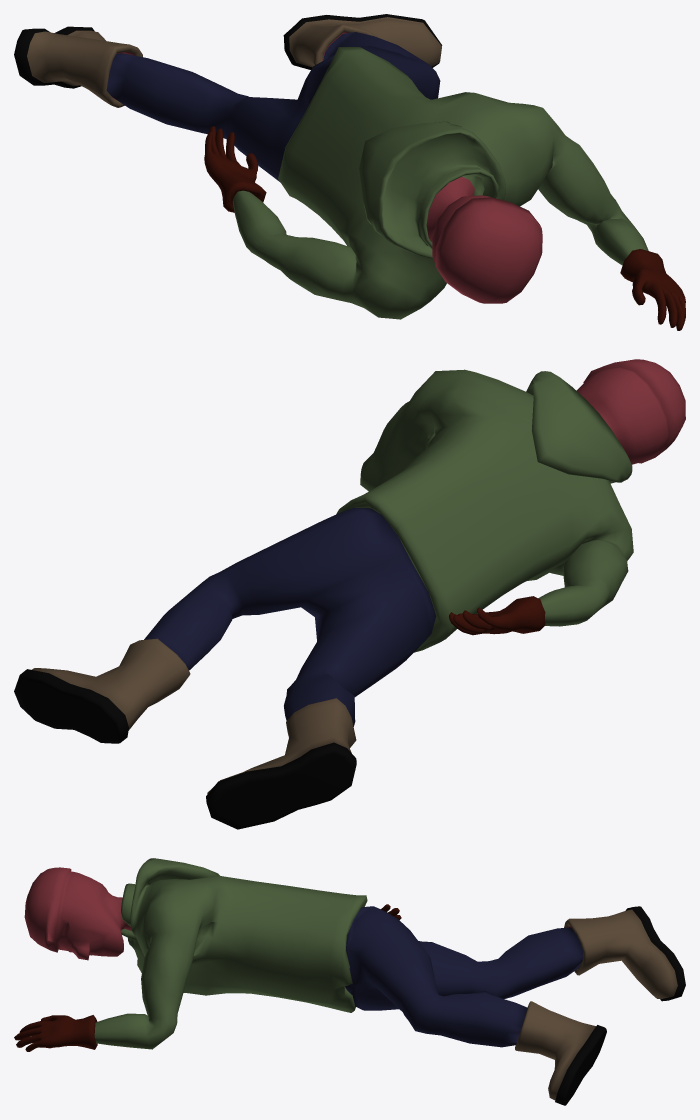
File: victim.dae
The picture shows the model from 3 angles, top to bottom: view 1: azimuth 30°, elevation 25°; view 2: azimuth 150°, elevation 25°; view 3: azimuth 270°, elevation 25°; orthographic projection. The views are drawn at different scales.
Visible parts, largest first — view 1: Man; view 2: Man; view 3: Man.
Boxes of the visible parts, <box> form: Man: <box>14,14,685,330</box>; Man: <box>14,359,685,829</box>; Man: <box>14,858,685,1105</box>.
Size of the model in its own units: 0.6599 by 1.31 by 0.3315.
